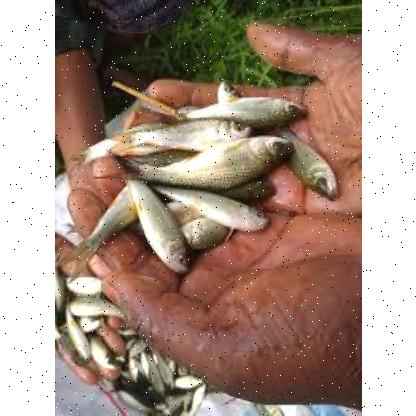ikan-mas: (114, 127, 288, 184), (122, 173, 192, 273), (149, 182, 269, 232), (170, 89, 304, 128), (274, 128, 336, 200)
